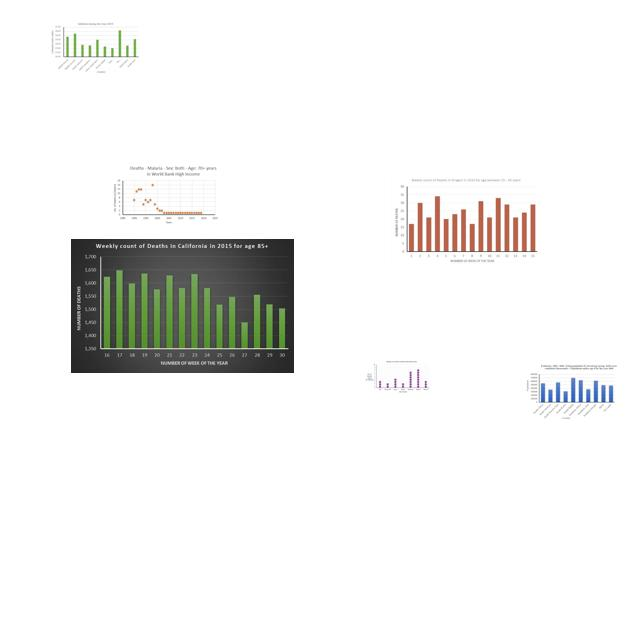Graph: (71, 239, 294, 373), (391, 176, 541, 267), (112, 164, 219, 226), (525, 364, 618, 420), (51, 21, 140, 74), (365, 360, 430, 394)
